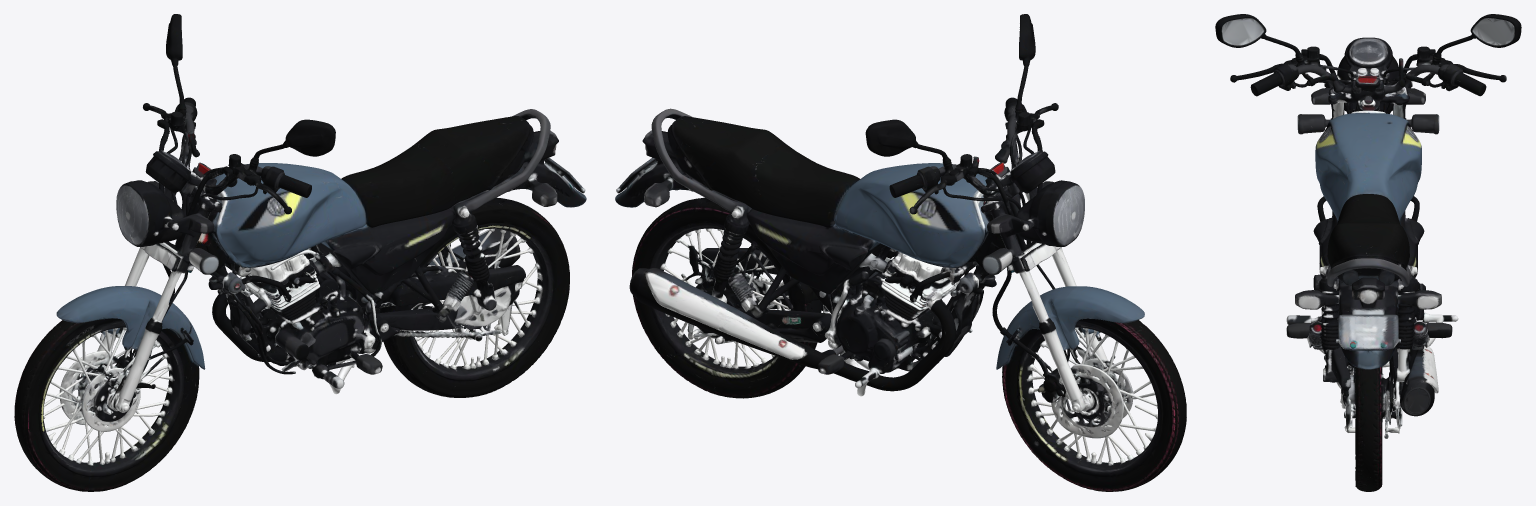
The model's file is akt-nkd.glb.
3 views of the same model, side by side, from view 1: azimuth 30°, elevation 25°; view 2: azimuth 150°, elevation 25°; view 3: azimuth 270°, elevation 25° (orthographic). The views are drawn at different scales.
Visible parts, largest first — view 1: Mesh_0.002; view 2: Mesh_0.002; view 3: Mesh_0.002.
Boxes of the visible parts, <box> form: Mesh_0.002: <box>14,14,586,491</box>; Mesh_0.002: <box>615,14,1186,491</box>; Mesh_0.002: <box>1215,14,1521,491</box>.
Size of the model in its own units: 1.7 by 1.1 by 0.8372.
1 material, 1 textured.
